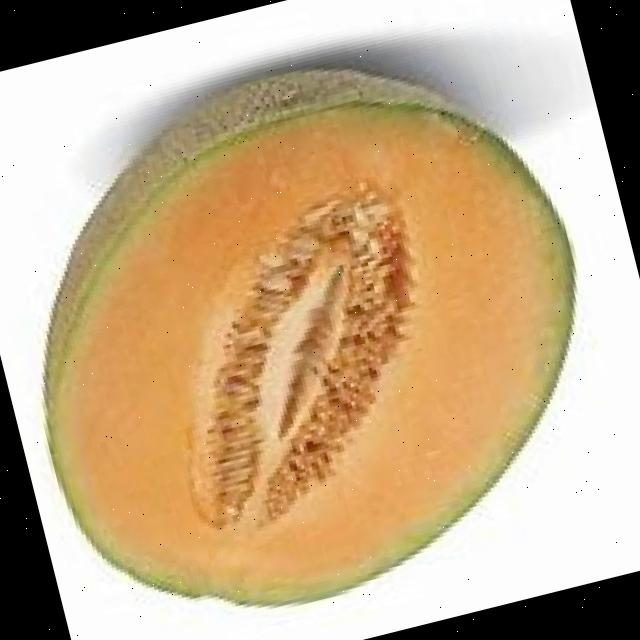Hami Melon: (0, 13, 637, 640)
